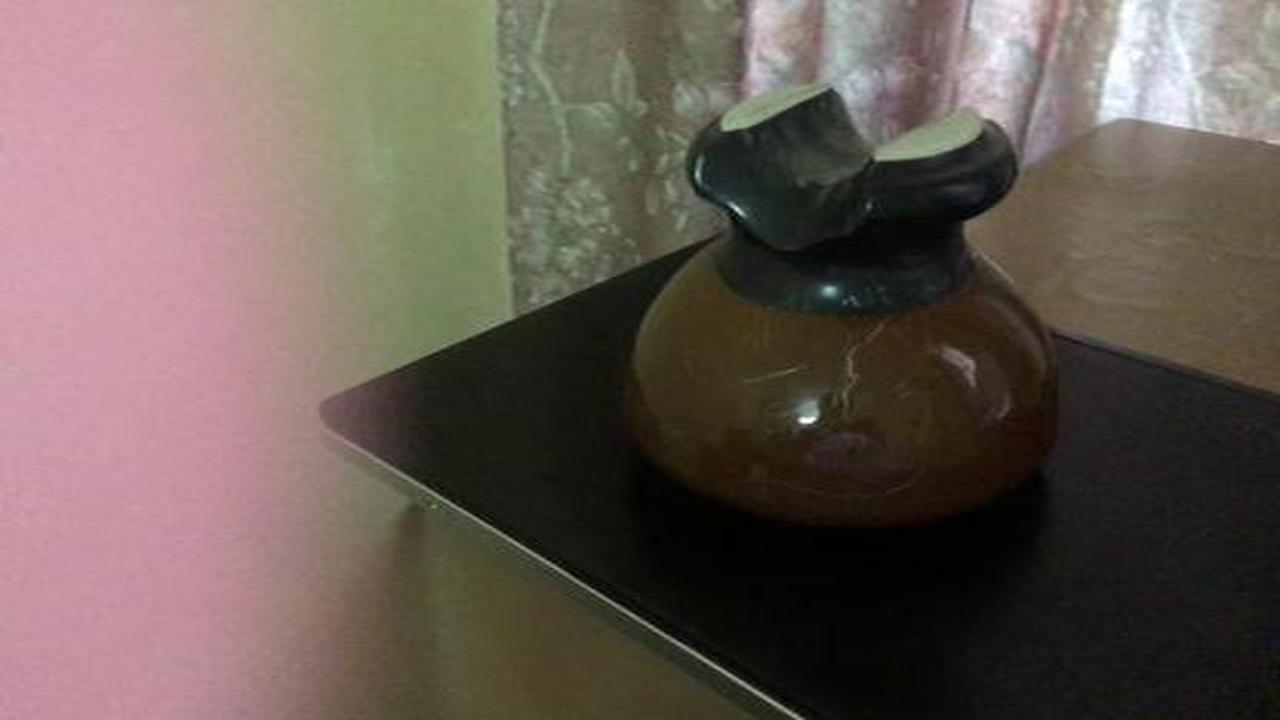insulator_pin: (594, 78, 1096, 549)
